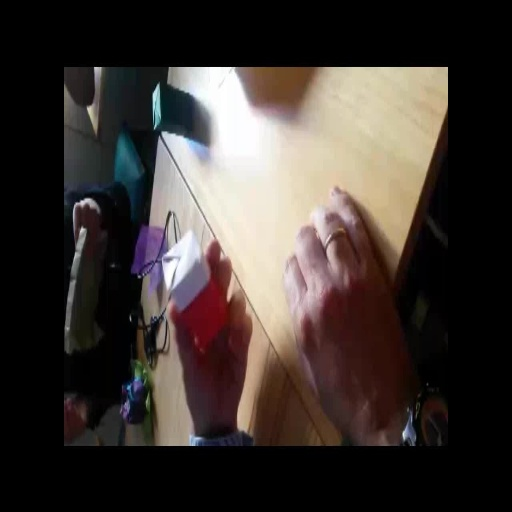hand: (267, 160, 423, 450), (166, 233, 253, 430)
